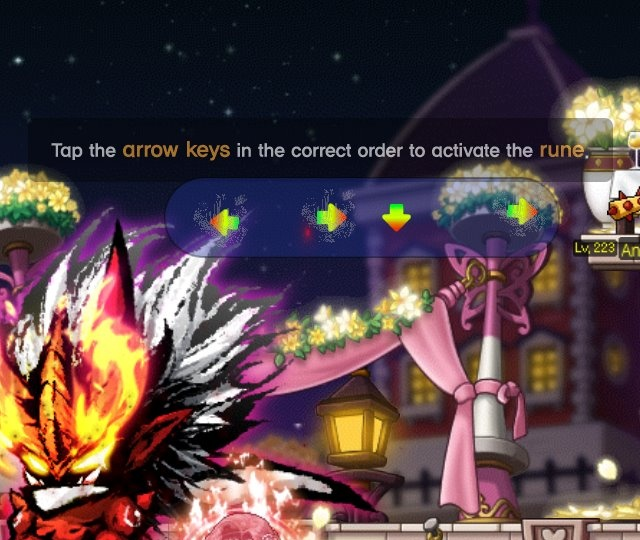down: (376, 196, 423, 243)
left: (203, 200, 248, 244)
right: (501, 190, 541, 233), (310, 196, 351, 237)
